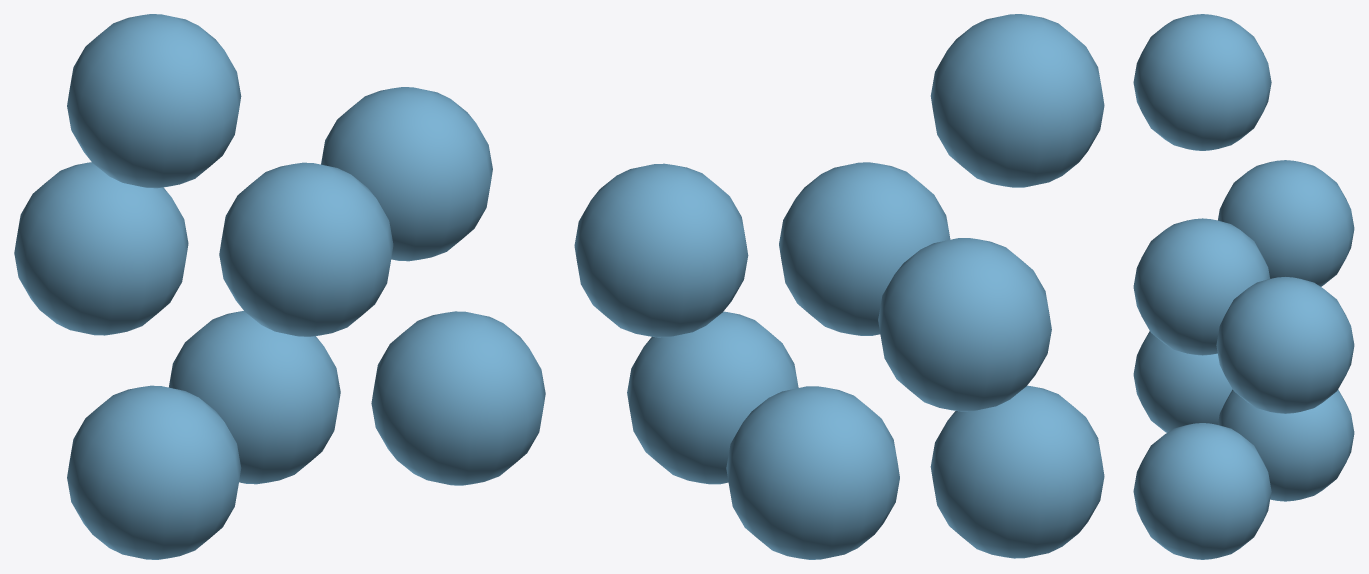
The model's file is word-bubbles.glb.
The picture shows the model from 3 angles, left to right: view 1: azimuth 30°, elevation 25°; view 2: azimuth 150°, elevation 25°; view 3: azimuth 270°, elevation 25°; orthographic projection. The views are drawn at different scales.
Visible parts, largest first — view 1: bubble.002, bubble.004, bubble, bubble.006, bubble.003, bubble.005, bubble.001; view 2: bubble.005, bubble.003, bubble.001, bubble.006, bubble, bubble.004, bubble.002; view 3: bubble.002, bubble.006, bubble.005, bubble.004, bubble.003, bubble.001, bubble.
Part boxes in pixels (x1,y1,x2,y2): bubble.002: (371,311,545,485); bubble.004: (219,162,393,336); bubble: (67,385,241,559); bubble.006: (67,14,241,188); bubble.003: (14,162,188,335); bubble.005: (321,87,492,261); bubble.001: (168,311,340,484); bubble.005: (574,163,748,337); bubble.003: (878,238,1051,411); bubble.001: (726,386,899,559); bubble.006: (930,14,1104,187); bubble: (930,385,1104,558); bubble.004: (779,162,950,335); bubble.002: (627,311,798,484); bubble.002: (1133,423,1271,559); bubble.006: (1133,14,1271,150); bubble.005: (1216,277,1354,413); bubble.004: (1133,218,1269,355); bubble.003: (1218,160,1354,286); bubble.001: (1218,389,1354,501); bubble: (1133,331,1232,432).
Size of the model in its own units: 0.9 by 1 by 0.48.
